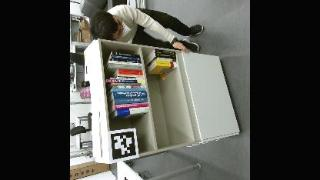book-spine: (116, 105, 149, 115), (109, 62, 143, 70), (113, 90, 147, 98), (114, 96, 148, 104), (114, 101, 148, 108), (112, 50, 141, 57), (109, 59, 142, 65), (111, 54, 141, 60), (113, 57, 142, 63), (112, 87, 146, 91), (111, 76, 144, 80), (154, 48, 176, 54), (155, 52, 177, 58), (155, 60, 177, 66), (118, 70, 143, 75), (107, 79, 145, 82), (118, 73, 144, 77), (111, 82, 145, 85), (118, 68, 142, 72), (158, 58, 176, 62), (114, 85, 145, 87), (158, 57, 176, 60)
